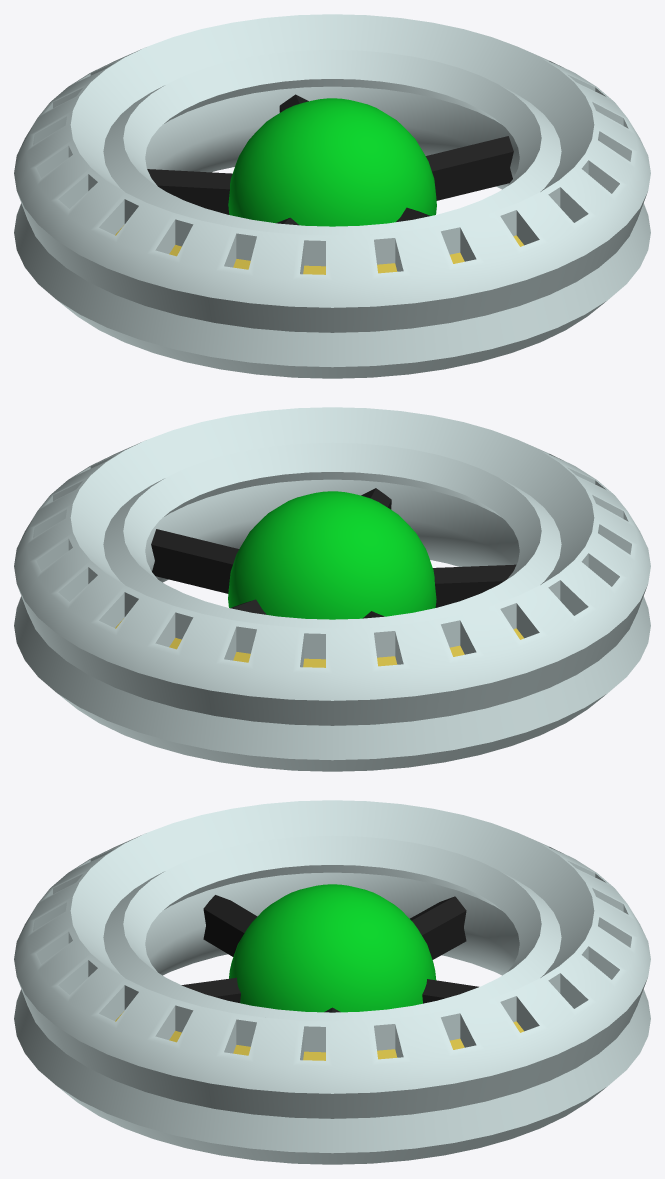
Rendered from station.fbx.
The picture shows the model from 3 angles, top to bottom: view 1: azimuth 30°, elevation 25°; view 2: azimuth 150°, elevation 25°; view 3: azimuth 270°, elevation 25°; orthographic projection.
Parts seen in each view (by area): view 1: StationBody, StationLamp, Connectors; view 2: StationBody, StationLamp, Connectors; view 3: StationBody, StationLamp, Connectors.
Part boxes in pixels (x1,y1,x2,y2): StationBody: (14,14,650,378); StationLamp: (228,98,436,226); Connectors: (147,94,513,225); StationBody: (14,407,650,771); StationLamp: (228,491,436,619); Connectors: (151,488,516,618); StationBody: (14,800,650,1164); StationLamp: (229,884,436,1012); Connectors: (181,895,478,1012).
Bounding box in the file's own units: 608 × 200 × 608.
